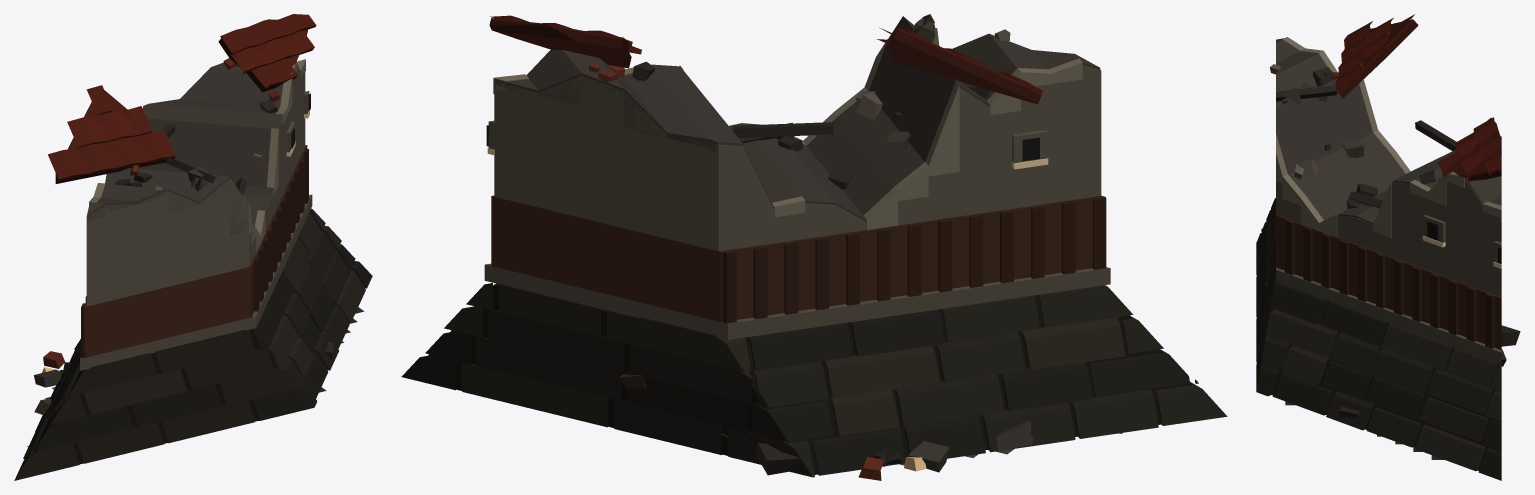
Rendered from VerWall10a.glb.
3 renders of one model, left to right at view 1: azimuth 30°, elevation 25°; view 2: azimuth 150°, elevation 25°; view 3: azimuth 270°, elevation 25°, orthographic. The views are drawn at different scales.
Visible parts, largest first — view 1: VerWall10a_stone2; view 2: VerWall10a_stone2; view 3: VerWall10a_stone2.
Part boxes in pixels (x1=…): VerWall10a_stone2: x1=14, y1=14, x2=372, y2=480; VerWall10a_stone2: x1=401, y1=14, x2=1227, y2=480; VerWall10a_stone2: x1=1256, y1=14, x2=1520, y2=480.
Bounding box in the file's own units: 9.36 × 5.61 × 4.39.
